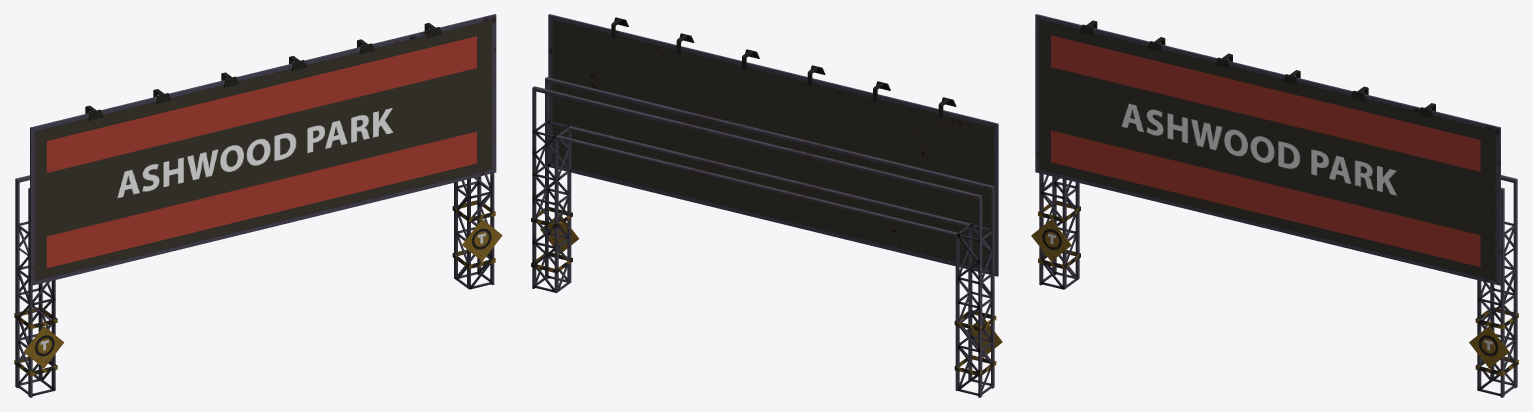
Rendered from BOARD.fbx.
3 views of the same model, side by side, from view 1: azimuth 30°, elevation 25°; view 2: azimuth 150°, elevation 25°; view 3: azimuth 330°, elevation 25° (orthographic). The views are drawn at different scales.
Parts seen in each view (by area): view 1: BOARD; view 2: BOARD; view 3: BOARD.
Part boxes in pixels (x1=…): BOARD: x1=14, y1=14, x2=502, y2=397; BOARD: x1=531, y1=14, x2=1002, y2=397; BOARD: x1=1031, y1=14, x2=1518, y2=397.
Size of the model in its own units: 2035 by 1133 by 184.
Materials: 1 (1 with a texture image).
